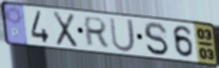4: (30, 9, 51, 44)
6: (171, 24, 195, 59)
R: (83, 16, 110, 49)
S: (142, 21, 171, 58)
U: (108, 16, 137, 54)
X: (51, 10, 79, 49)
